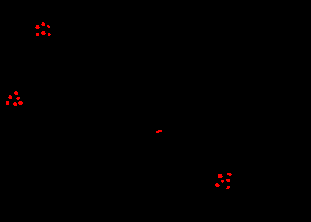Target: (35, 25, 40, 29), (41, 31, 46, 35), (18, 101, 23, 105), (218, 174, 223, 178), (215, 183, 220, 187), (156, 130, 162, 133), (41, 22, 45, 26), (14, 91, 18, 95), (8, 95, 12, 99), (13, 102, 17, 106), (227, 173, 232, 176), (16, 97, 20, 100), (6, 101, 9, 105), (226, 179, 230, 182), (226, 186, 230, 189), (47, 25, 50, 28), (36, 33, 39, 36), (48, 33, 51, 36), (221, 180, 224, 183)
